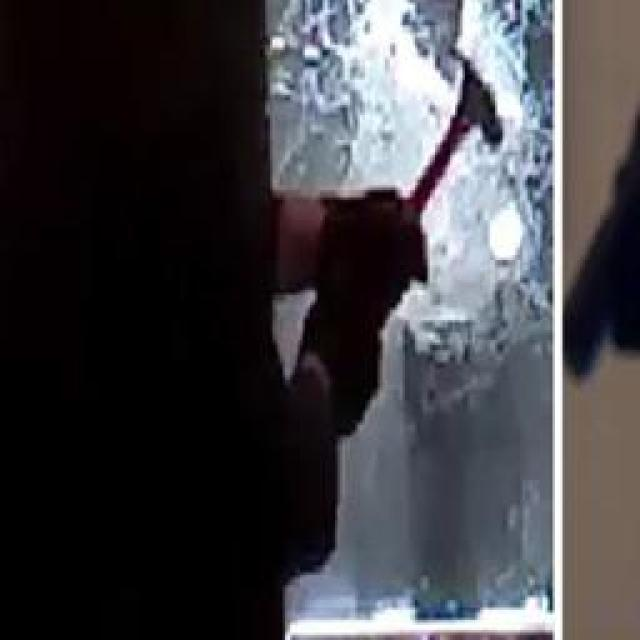Guns: (550, 28, 640, 418)
